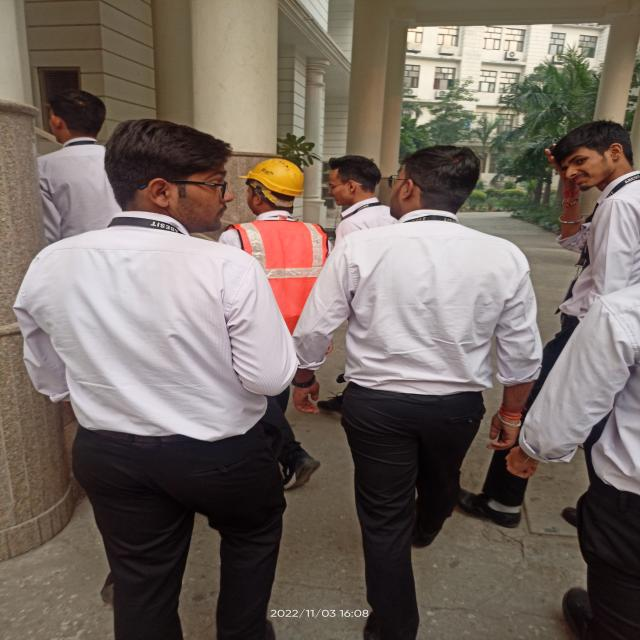safe: (221, 157, 332, 492)
unsafe: (11, 118, 299, 640), (294, 142, 543, 640), (465, 121, 640, 524)
